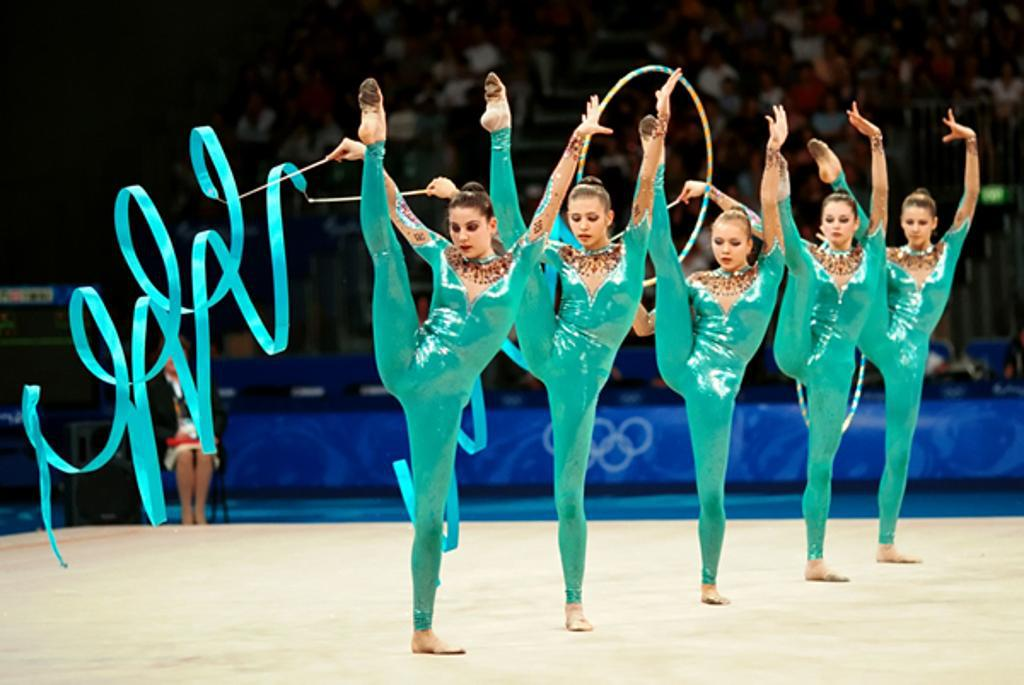face: (451, 210, 490, 259), (568, 200, 608, 247), (712, 226, 749, 267), (824, 205, 853, 244), (905, 208, 934, 245), (167, 349, 187, 373), (709, 49, 720, 64), (853, 91, 864, 104), (762, 74, 772, 87), (722, 84, 733, 95), (827, 99, 837, 110), (824, 46, 834, 57), (804, 70, 812, 78)
